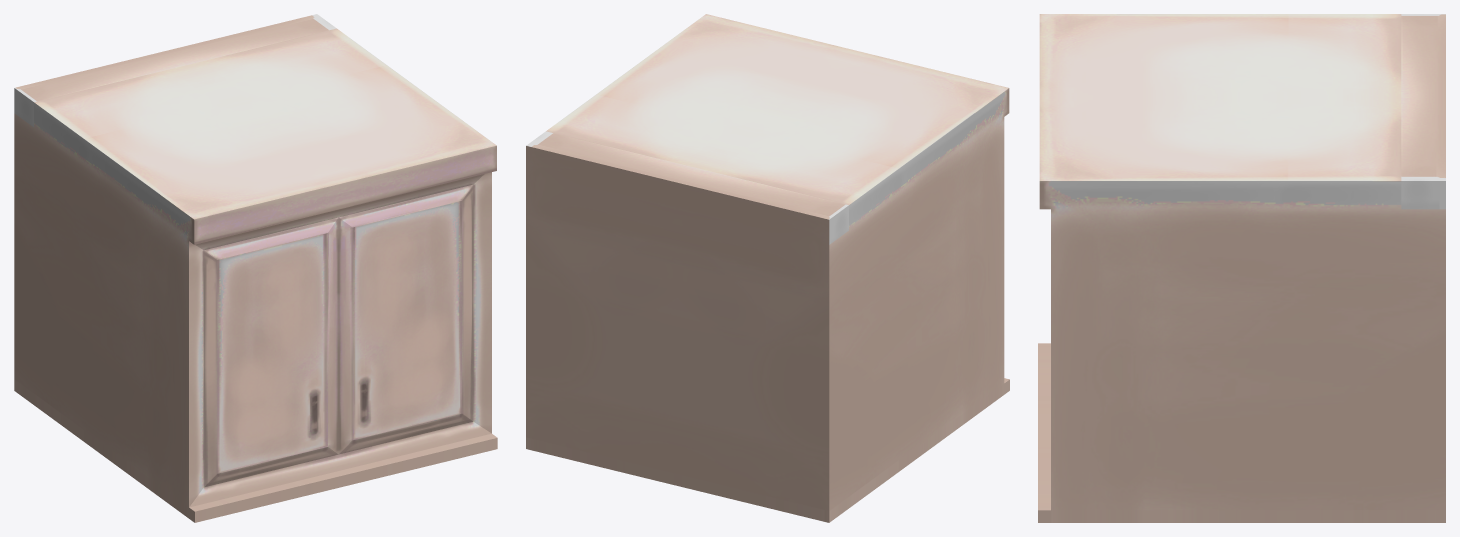
Rendered from KitchenCounter_Over.fbx.
3 renders of one model, left to right at view 1: azimuth 30°, elevation 25°; view 2: azimuth 150°, elevation 25°; view 3: azimuth 270°, elevation 25°, orthographic. The views are drawn at different scales.
Parts seen in each view (by area): view 1: KitchenCounter_Over; view 2: KitchenCounter_Over; view 3: KitchenCounter_Over.
Boxes of the visible parts, bbox=[...] form: KitchenCounter_Over: bbox=[14, 14, 497, 522]; KitchenCounter_Over: bbox=[526, 14, 1009, 522]; KitchenCounter_Over: bbox=[1038, 14, 1445, 522].
Bounding box in the file's own units: 72.94 × 69.73 × 75.31.
1 material, 1 textured.
